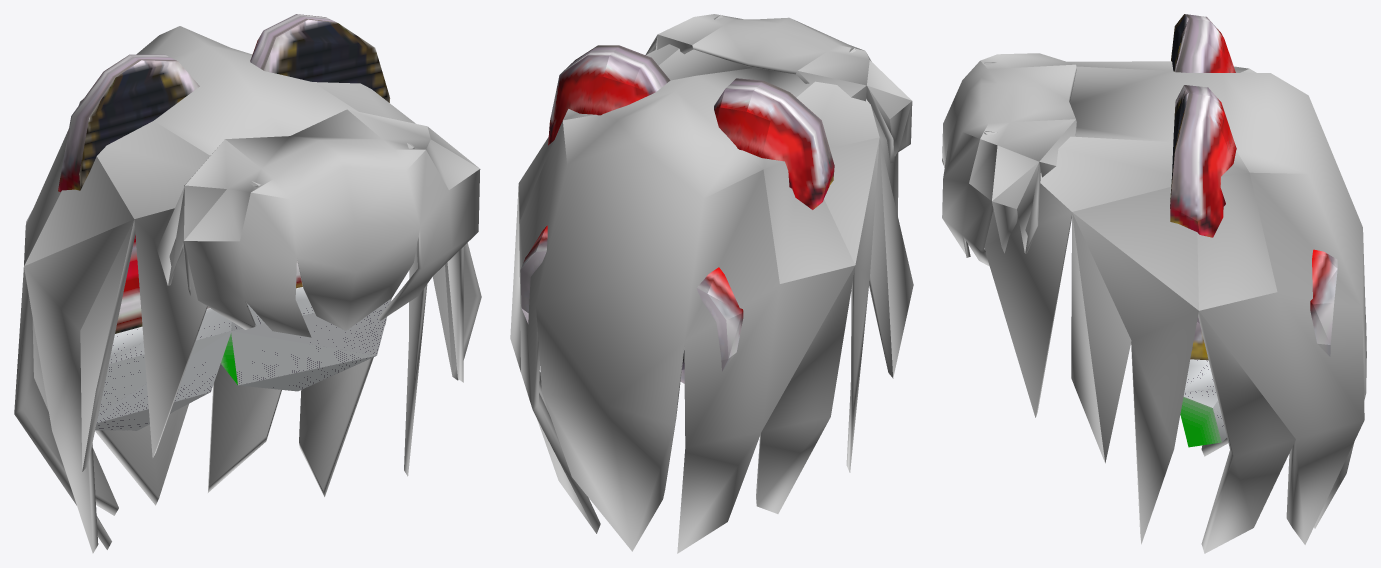
The model's file is skater Fred.fbx.
3 renders of one model, left to right at view 1: azimuth 30°, elevation 25°; view 2: azimuth 150°, elevation 25°; view 3: azimuth 270°, elevation 25°, orthographic. The views are drawn at different scales.
Visible parts, largest first — view 1: SkaterFredHair, meshRightFoot, meshLeftFoot; view 2: SkaterFredHair, meshRightFoot, meshLeftFoot; view 3: SkaterFredHair, meshLeftFoot, meshRightFoot.
Boxes of the visible parts, x1,y1,x2,y2 form: SkaterFredHair: (14, 26, 481, 553); meshRightFoot: (26, 54, 231, 430); meshLeftFoot: (221, 14, 391, 391); SkaterFredHair: (510, 14, 913, 553); meshRightFoot: (680, 78, 834, 383); meshLeftFoot: (520, 45, 670, 323); SkaterFredHair: (942, 53, 1366, 553); meshLeftFoot: (1170, 85, 1337, 447); meshRightFoot: (1171, 14, 1235, 72).
Size of the model in its own units: 87.87 by 111 by 90.36.
